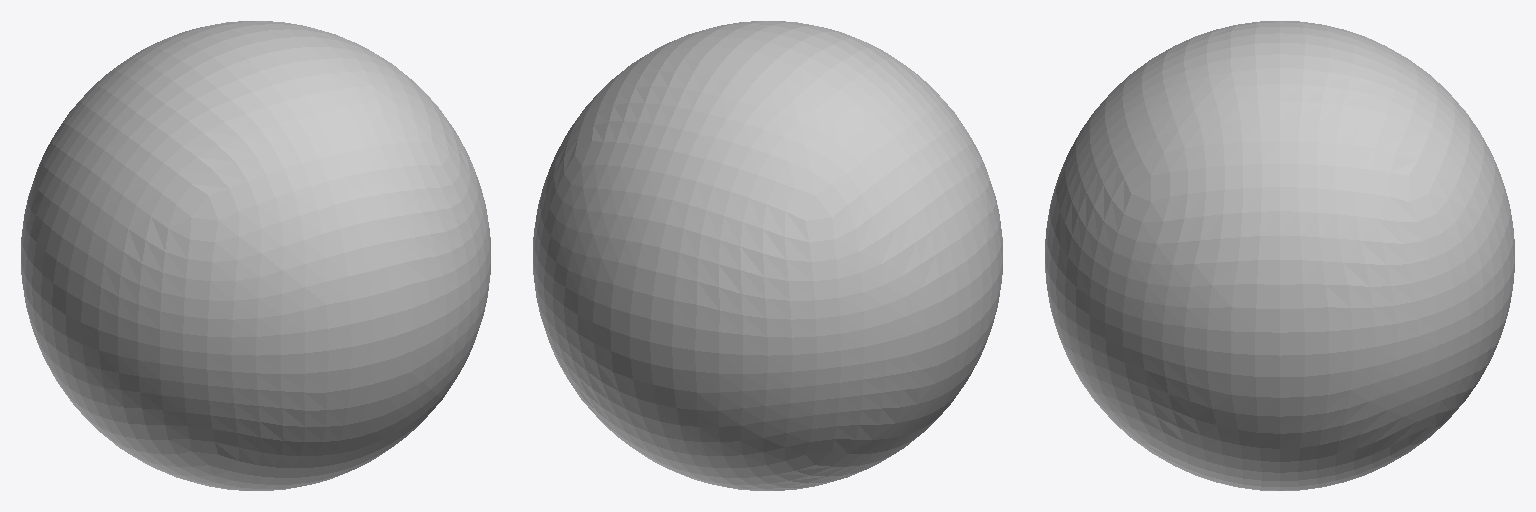
File: Marble Ball.obj
3 renders of one model, left to right at view 1: azimuth 30°, elevation 25°; view 2: azimuth 150°, elevation 25°; view 3: azimuth 270°, elevation 25°, orthographic.
Visible parts, largest first — view 1: Sphere_Ball; view 2: Sphere_Ball; view 3: Sphere_Ball.
Boxes of the visible parts, x1=… form: Sphere_Ball: x1=21, y1=21, x2=490, y2=490; Sphere_Ball: x1=533, y1=21, x2=1002, y2=490; Sphere_Ball: x1=1045, y1=21, x2=1514, y2=490.
Bounding box in the file's own units: 7.96 × 7.96 × 7.96.